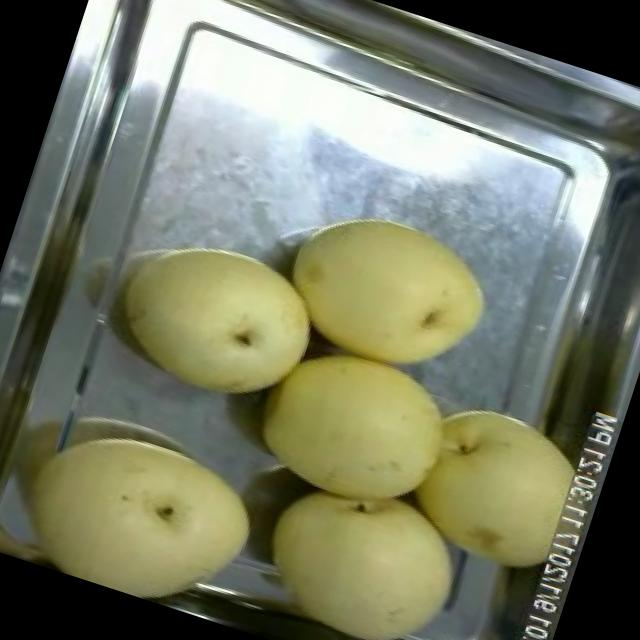Fruit: (0, 393, 284, 628), (261, 182, 513, 398), (232, 316, 476, 533), (96, 215, 339, 430), (232, 452, 490, 640), (379, 378, 597, 600)
